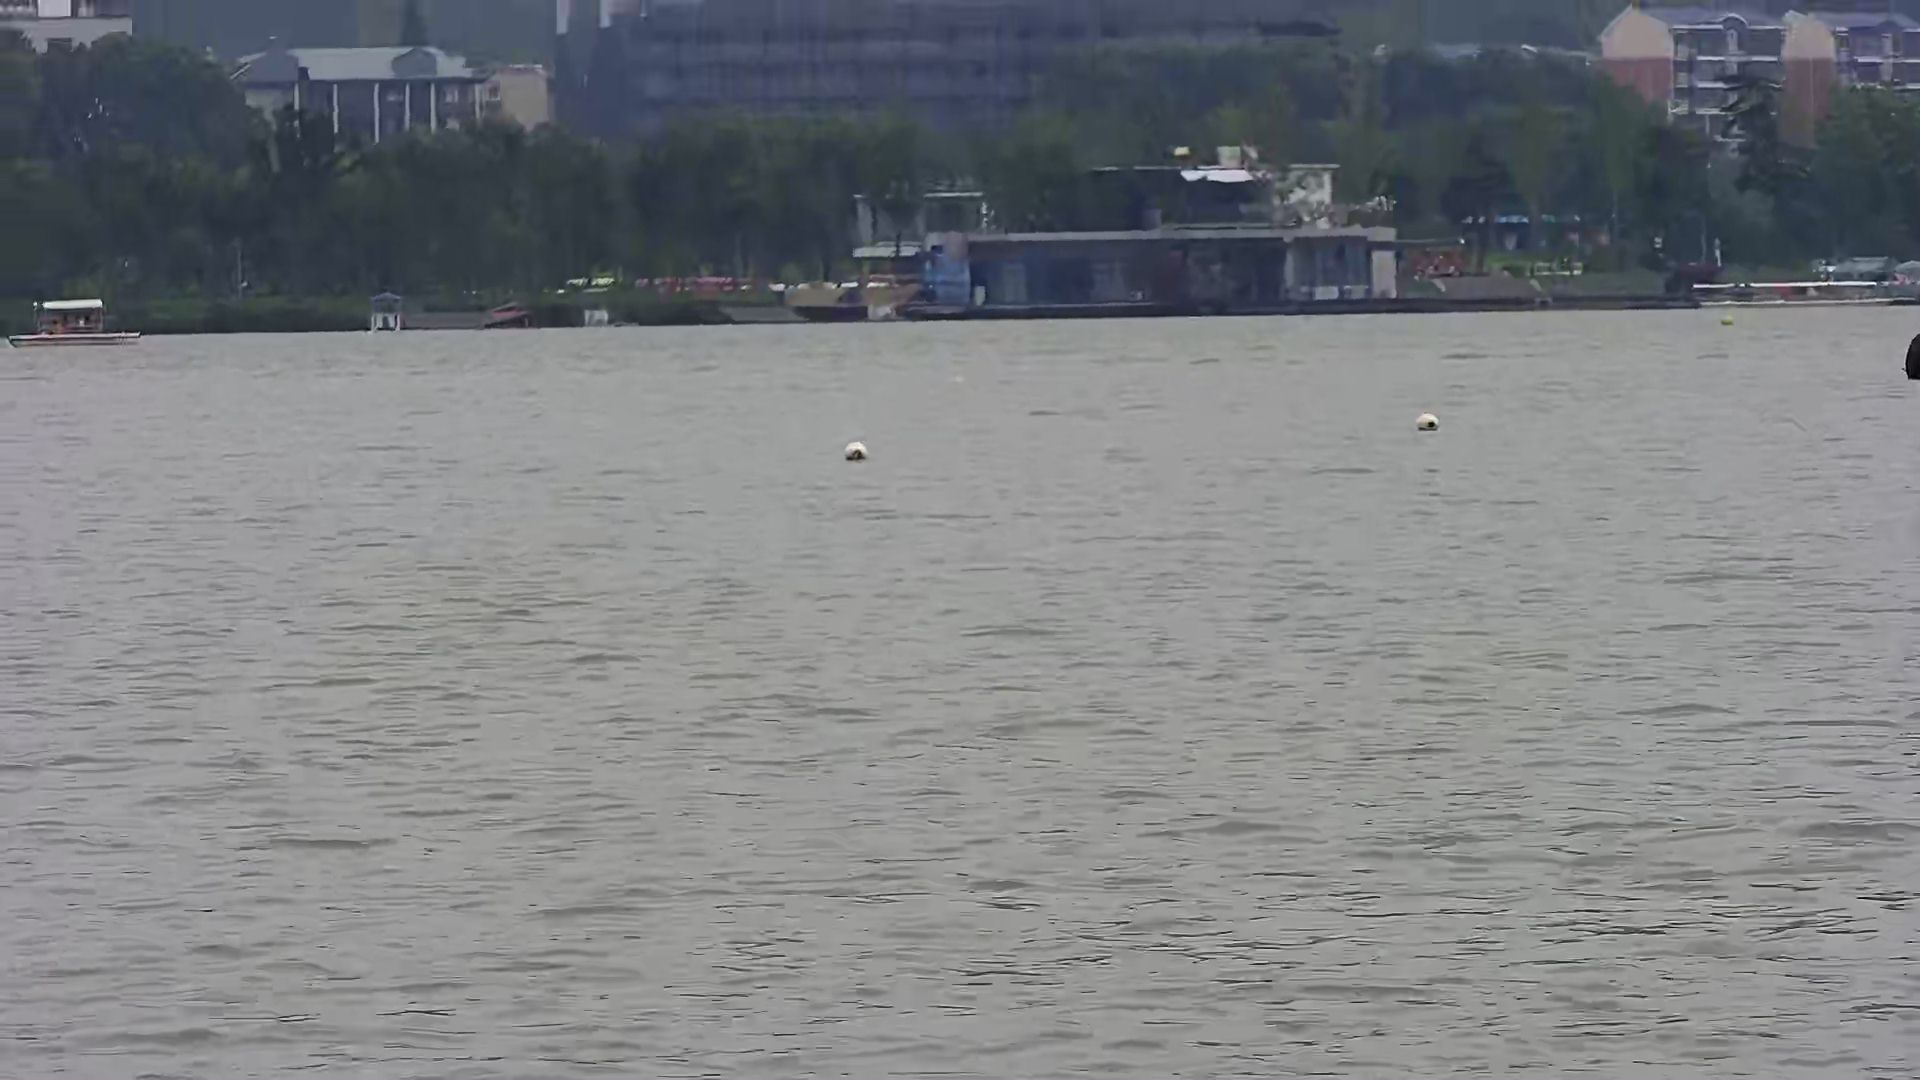boat: (15, 301, 145, 349)
rubbish: (1408, 407, 1444, 435), (844, 440, 870, 458)
